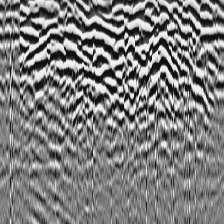cavities: (19, 0, 224, 123)
